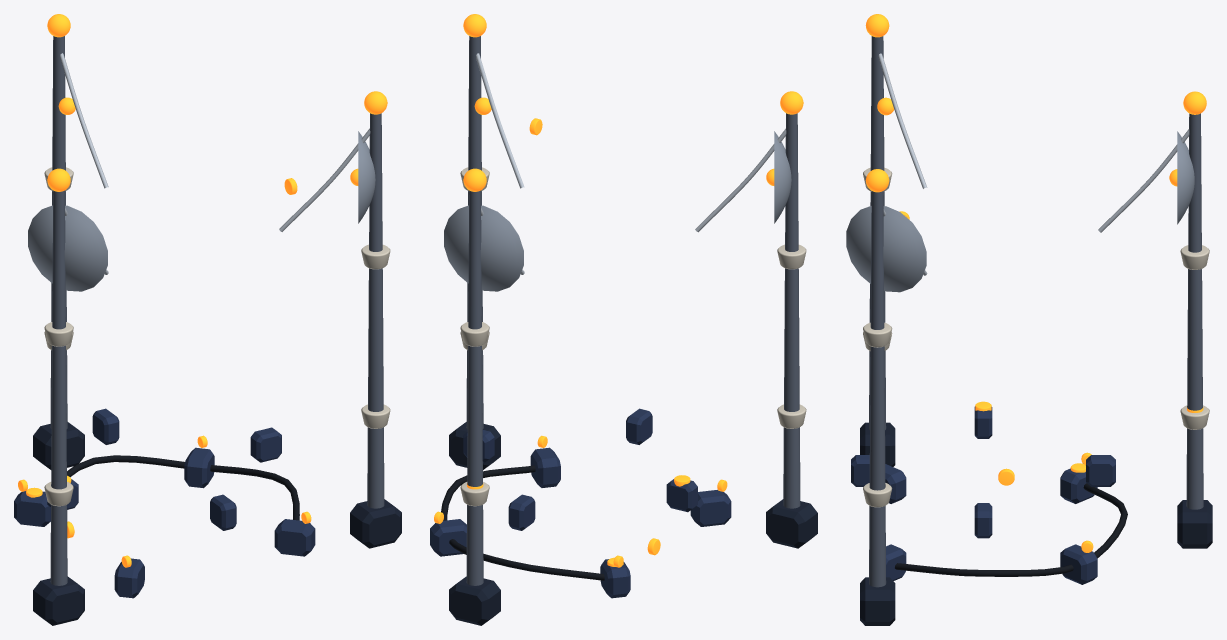
File: tower_overclock_network_s9.glb
3 views of the same model, side by side, from view 1: azimuth 30°, elevation 25°; view 2: azimuth 150°, elevation 25°; view 3: azimuth 270°, elevation 25° (orthographic).
Visible parts, largest first — view 1: overclock_antenna2, overclock_antenna1, overclock_link_dish2, overclock_antenna0, overclock_antenna_foot1, overclock_antenna_foot2, overclock_relay_cable, overclock_antenna_foot0, overclock_relay2, overclock_link_dish1, overclock_relay0, overclock_relay1 (+8 smaller); view 2: overclock_antenna0, overclock_antenna2, overclock_link_dish0, overclock_antenna1, overclock_antenna_foot0, overclock_antenna_foot2, overclock_relay_cable, overclock_relay3, overclock_link_dish2, overclock_relay1, overclock_relay2, overclock_antenna_foot1 (+8 smaller); view 3: overclock_antenna1, overclock_antenna0, overclock_link_dish1, overclock_antenna2, overclock_relay_cable, overclock_antenna_foot0, overclock_antenna_foot1, overclock_link_dish0, overclock_relay1, overclock_relay_b1, overclock_relay0, overclock_antenna_foot2 (+11 smaller).
Boxes of the visible parts, x1,y1,x2,y2 form: overclock_antenna2: [50, 190, 67, 585]; overclock_antenna1: [367, 113, 384, 508]; overclock_link_dish2: [28, 205, 107, 291]; overclock_antenna0: [50, 36, 67, 428]; overclock_antenna_foot1: [350, 499, 401, 548]; overclock_antenna_foot2: [33, 576, 84, 625]; overclock_relay_cable: [67, 455, 299, 520]; overclock_antenna_foot0: [33, 422, 84, 469]; overclock_relay2: [274, 519, 315, 556]; overclock_link_dish1: [358, 131, 375, 223]; overclock_relay0: [14, 491, 50, 526]; overclock_relay1: [184, 447, 214, 488]; overclock_antenna0: [466, 190, 483, 585]; overclock_antenna2: [783, 113, 800, 508]; overclock_link_dish0: [444, 205, 523, 291]; overclock_antenna1: [466, 36, 483, 428]; overclock_antenna_foot0: [449, 576, 500, 625]; overclock_antenna_foot2: [766, 499, 817, 548]; overclock_relay_cable: [441, 465, 604, 580]; overclock_relay3: [690, 489, 731, 526]; overclock_link_dish2: [774, 131, 791, 223]; overclock_relay1: [430, 519, 466, 556]; overclock_relay2: [530, 447, 560, 487]; overclock_antenna_foot1: [449, 422, 500, 469]; overclock_antenna1: [869, 191, 886, 587]; overclock_antenna0: [1186, 113, 1203, 509]; overclock_link_dish1: [846, 206, 926, 292]; overclock_antenna2: [869, 36, 886, 429]; overclock_relay_cable: [895, 483, 1127, 576]; overclock_antenna_foot0: [1177, 500, 1212, 548]; overclock_antenna_foot1: [860, 577, 895, 625]; overclock_link_dish0: [1177, 131, 1194, 224]; overclock_relay1: [1060, 544, 1097, 584]; overclock_relay_b1: [1086, 455, 1115, 486]; overclock_relay0: [1060, 468, 1097, 503]; overclock_antenna_foot2: [860, 422, 895, 466].
Bounding box in the file's own units: 1.4 × 1.69 × 1.25.
